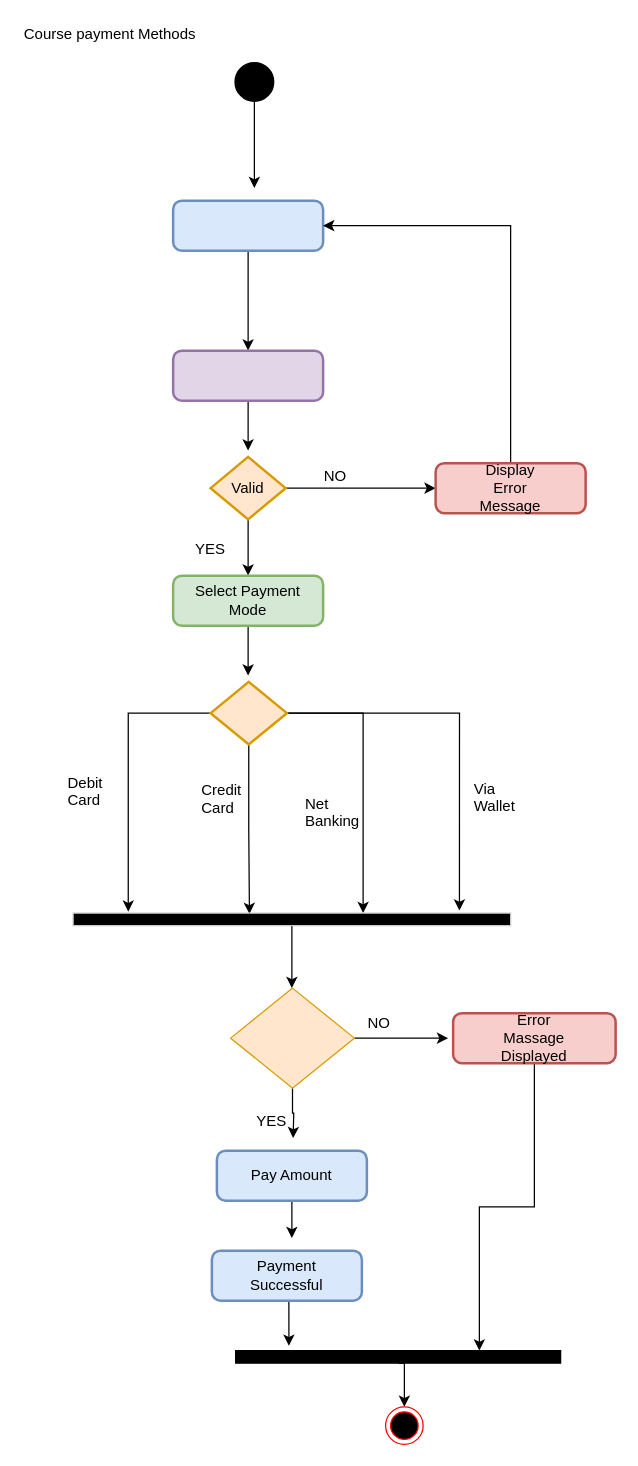
The diagram is 638 pixels wide and 1466 high, and some of its shapes have lost their labels. Here are the shapes that lost their labels. From the top down, the box of each, then its label:
(171, 199, 324, 251): Enter Username Password
(171, 349, 324, 401): Verification Details
(229, 987, 354, 1088): Valid Payment Details
